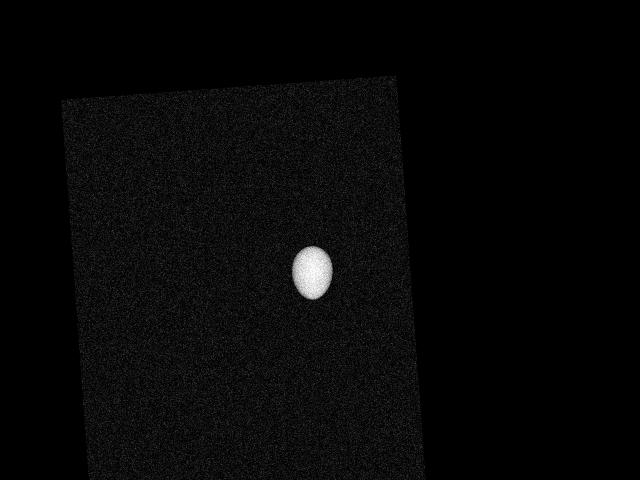egg: (289, 244, 334, 300)
